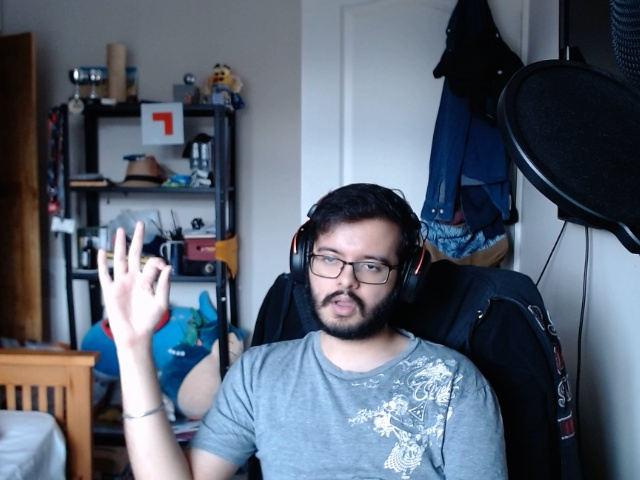Okay: (90, 218, 191, 355)
